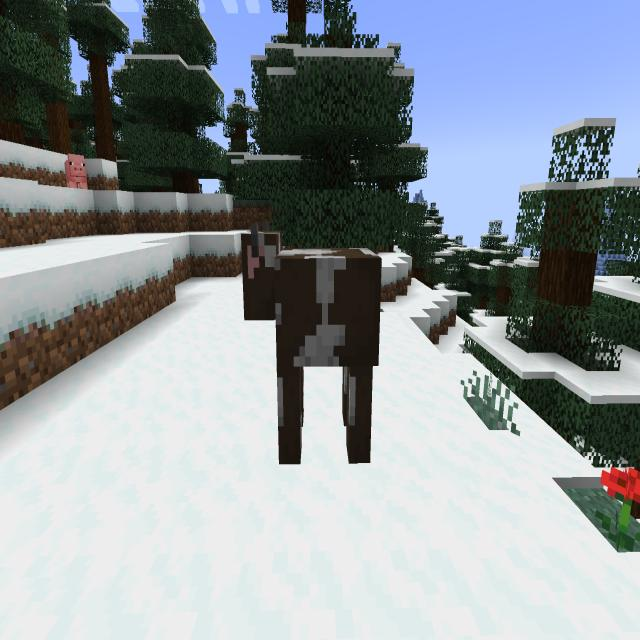cow: (226, 207, 397, 483)
pig: (61, 146, 94, 199)
